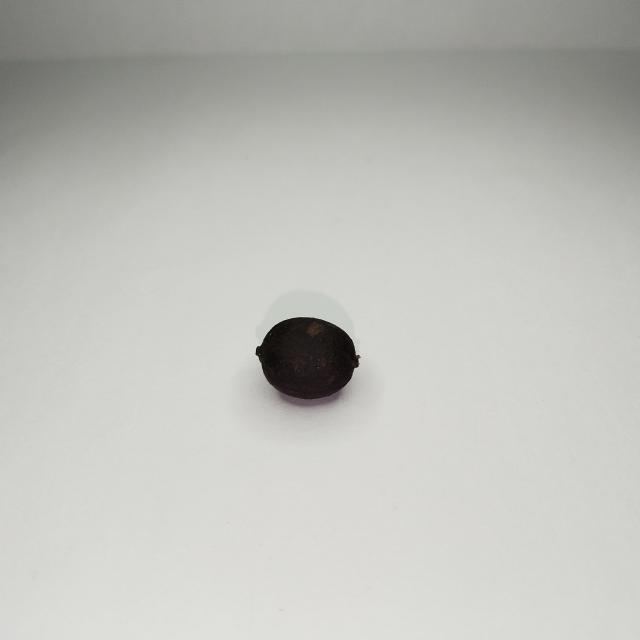Danado: (254, 316, 362, 405)
